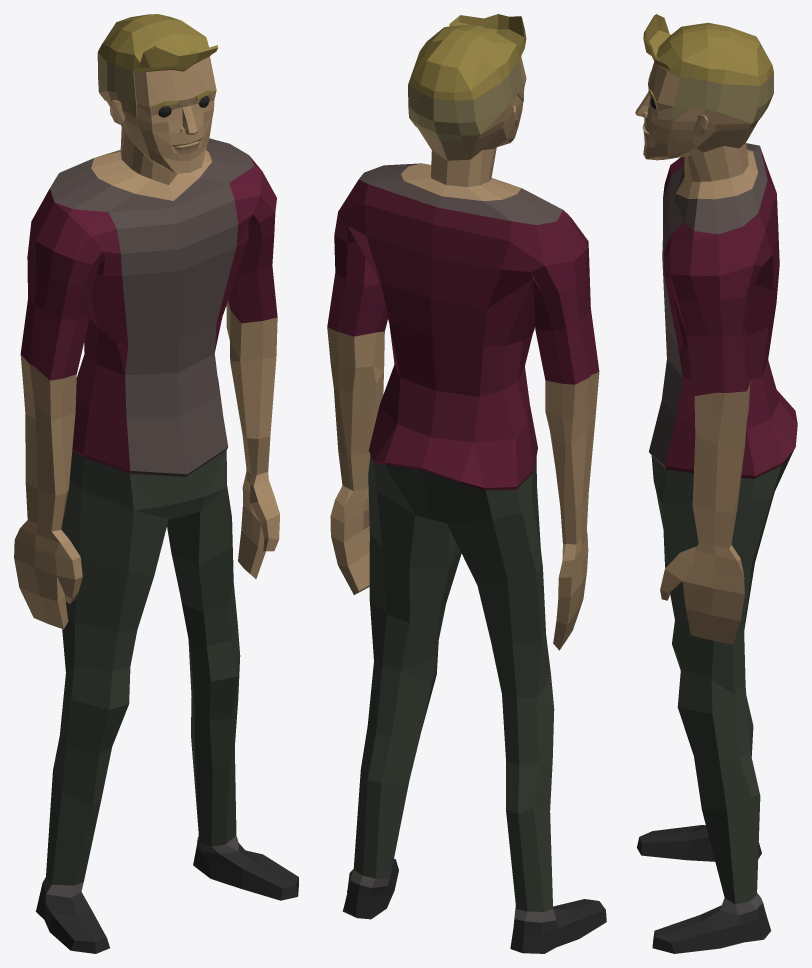
The model's file is engineer.glb.
The picture shows the model from 3 angles, left to right: view 1: azimuth 30°, elevation 25°; view 2: azimuth 150°, elevation 25°; view 3: azimuth 270°, elevation 25°; orthographic projection. The views are drawn at different scales.
Parts seen in each view (by area): view 1: BaseHuman_Cylinder.002; view 2: BaseHuman_Cylinder.002; view 3: BaseHuman_Cylinder.002.
Boxes of the visible parts, x1=… form: BaseHuman_Cylinder.002: x1=14, y1=14, x2=298, y2=953; BaseHuman_Cylinder.002: x1=327, y1=14, x2=606, y2=953; BaseHuman_Cylinder.002: x1=635, y1=14, x2=797, y2=953.
Bounding box in the file's own units: 1.43 × 4.84 × 0.8219.
